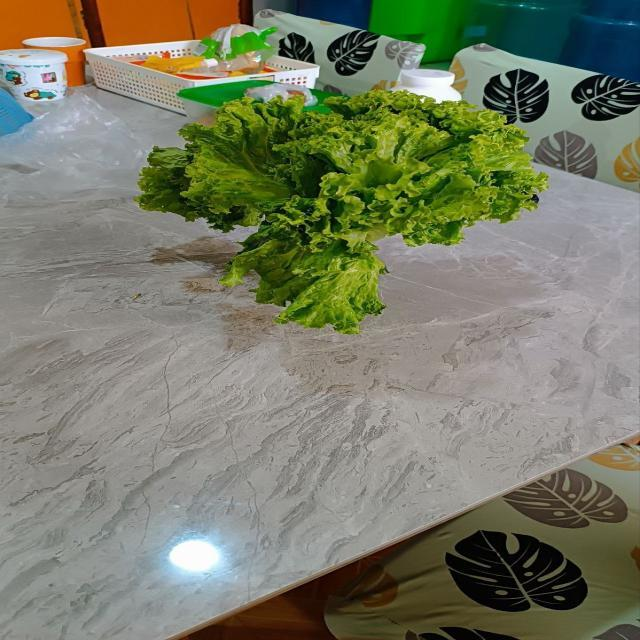Lettuce-Ready-to-Harvest: (138, 90, 548, 332)
